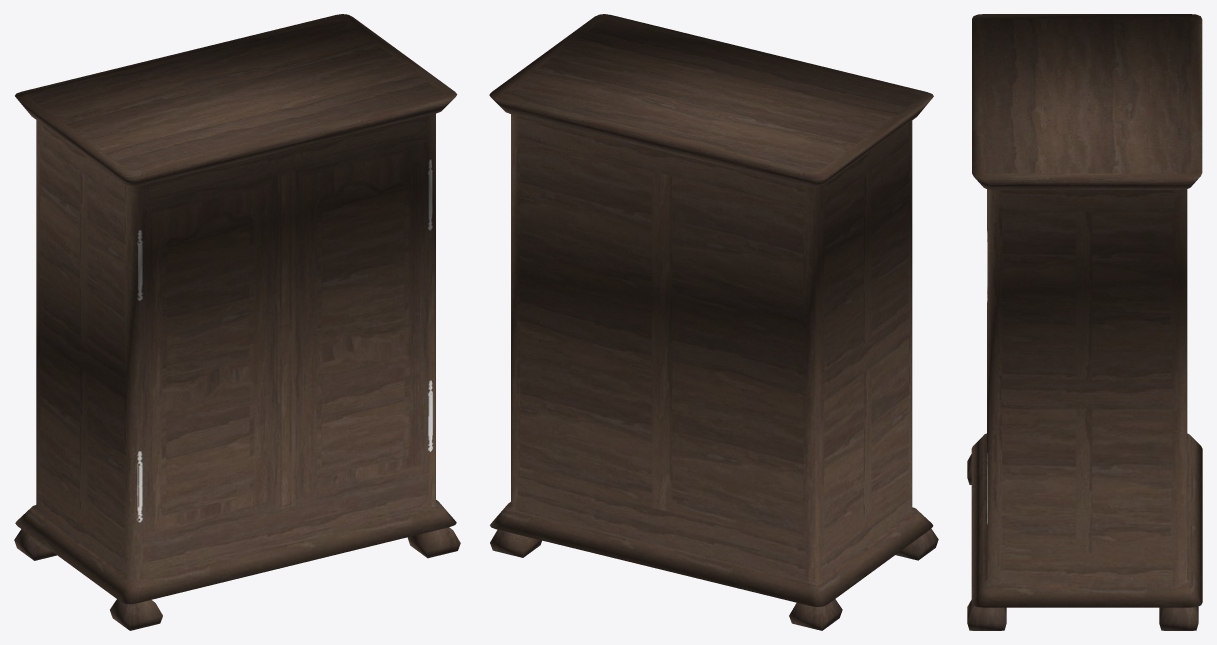
The picture shows the model from 3 angles, left to right: view 1: azimuth 30°, elevation 25°; view 2: azimuth 150°, elevation 25°; view 3: azimuth 270°, elevation 25°; orthographic projection.
Visible parts, largest first — view 1: low; view 2: low; view 3: low.
Boxes of the visible parts, x1,y1,x2,y2 form: low: (14,14,460,630); low: (489,14,938,630); low: (967,14,1202,630).
Bounding box in the file's own units: 133 × 173 × 80.49.
Materials: 1 (1 with a texture image).
